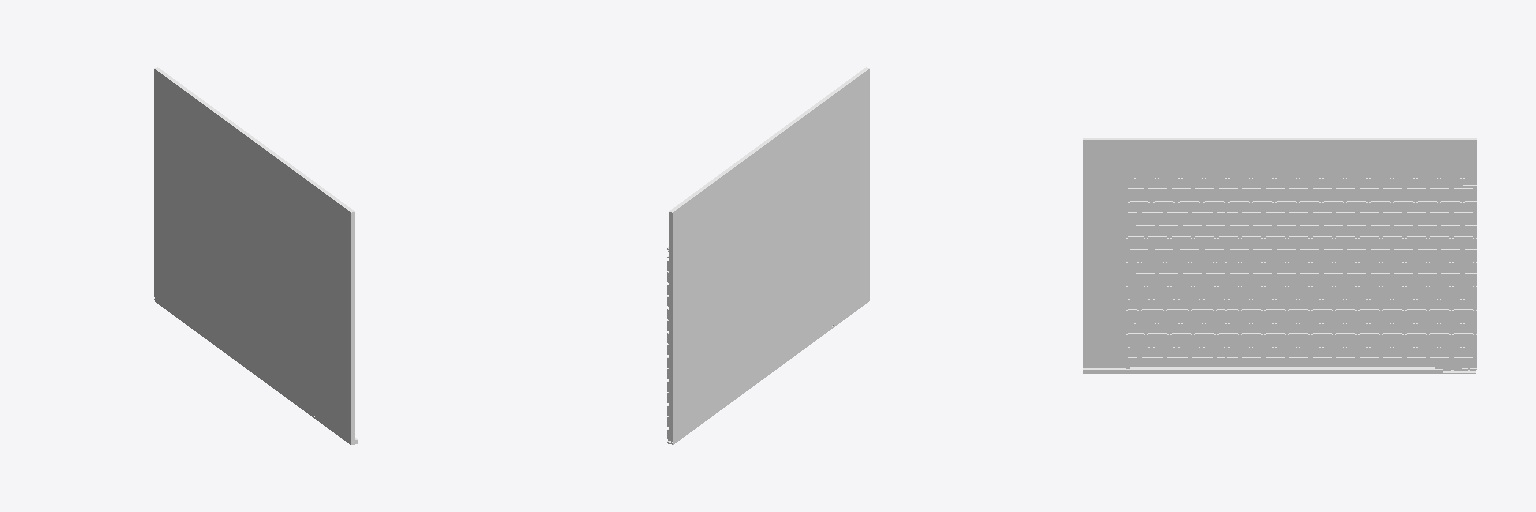
File: Bar1-5.obj
3 views of the same model, side by side, from view 1: azimuth 30°, elevation 25°; view 2: azimuth 150°, elevation 25°; view 3: azimuth 270°, elevation 25° (orthographic).
Parts seen in each view (by area): view 1: object 1; view 2: object 1; view 3: object 1.
Boxes of the visible parts, <box> form: object 1: <box>154,67,357,444</box>; object 1: <box>667,67,869,444</box>; object 1: <box>1083,138,1476,373</box>.
Bounding box in the file's own units: 0.5 × 16.4 × 25.2.